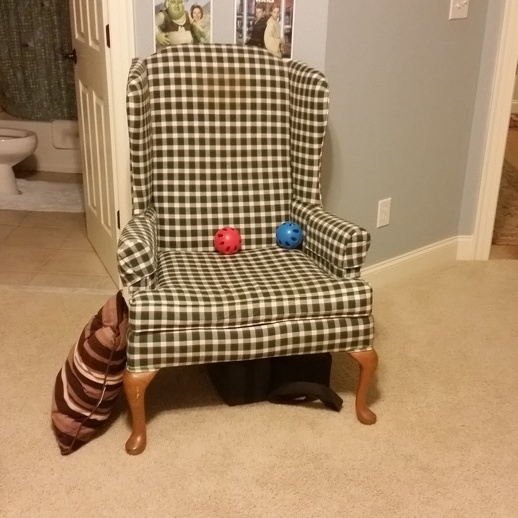ball: (211, 224, 245, 255), (274, 218, 305, 250)
